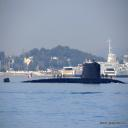submarine: (5, 64, 128, 83)
